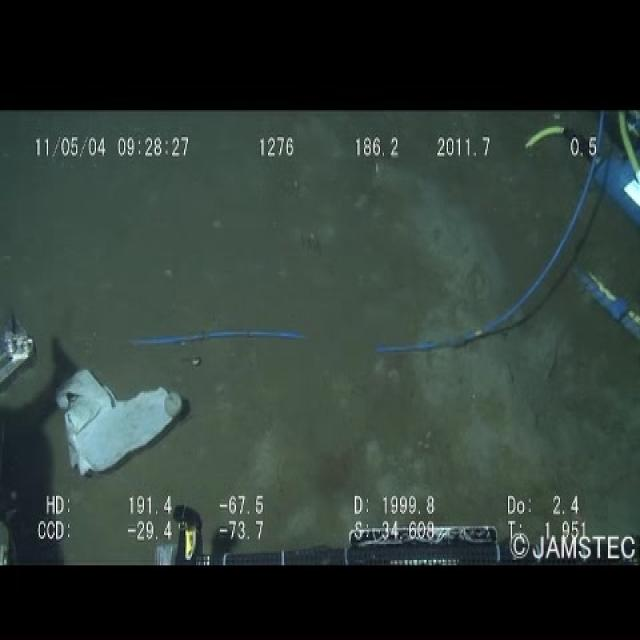plastic: (51, 364, 185, 474)
